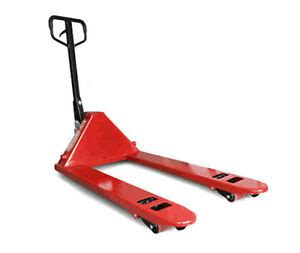Pallet Jack: (48, 15, 269, 236)
